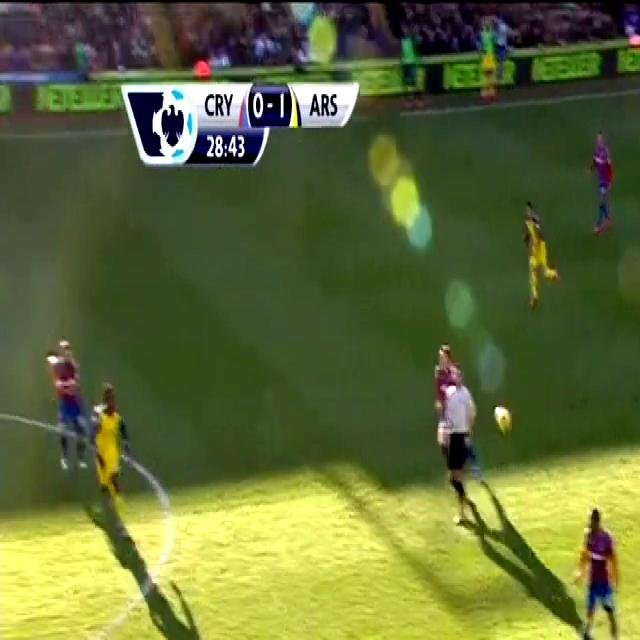ball: (488, 400, 518, 442)
referee: (429, 363, 495, 517)
soccer-player: (32, 336, 92, 480), (566, 503, 629, 640), (517, 202, 570, 318), (91, 380, 139, 502), (583, 124, 620, 237)
